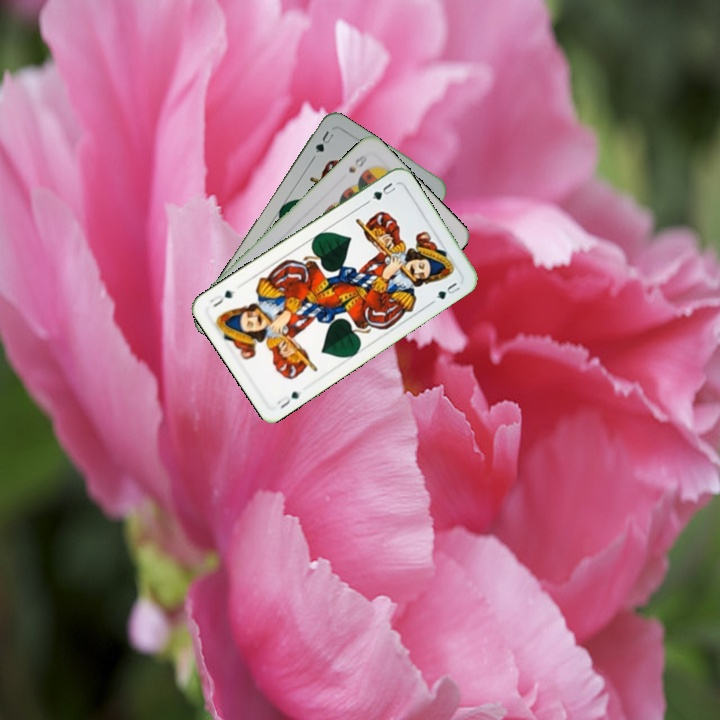GU: (363, 178, 398, 206), (311, 126, 337, 156), (272, 387, 304, 411)
S8: (344, 150, 369, 175)
